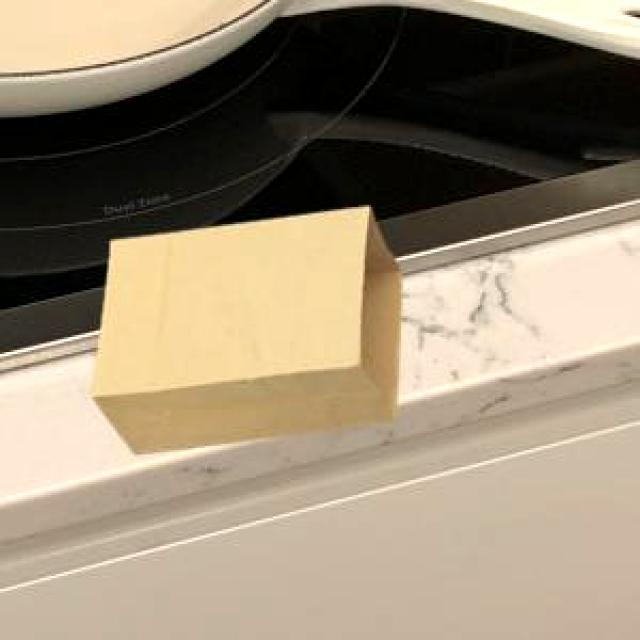Paper_Bag: (88, 204, 398, 452)
